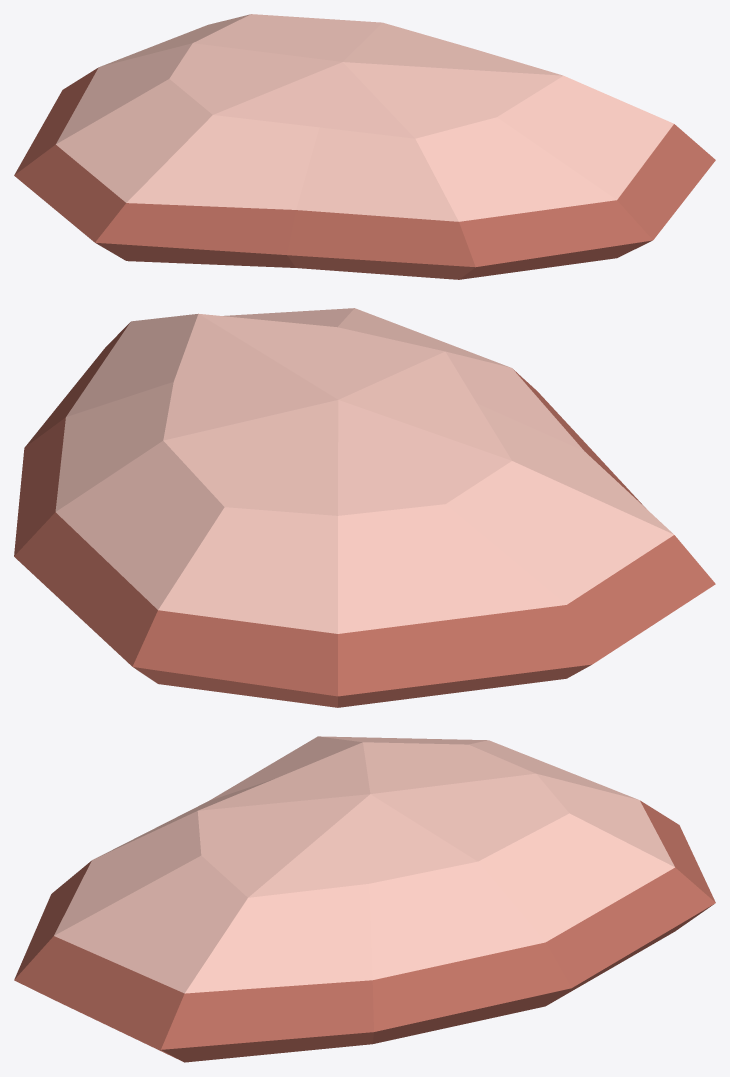
File: Feuillage 013.fbx
The picture shows the model from 3 angles, top to bottom: view 1: azimuth 30°, elevation 25°; view 2: azimuth 150°, elevation 25°; view 3: azimuth 270°, elevation 25°; orthographic projection. The views are drawn at different scales.
Parts seen in each view (by area): view 1: Feuillage 013; view 2: Feuillage 013; view 3: Feuillage 013.
Part boxes in pixels (<box>): Feuillage 013: <box>14,14,715,279</box>; Feuillage 013: <box>14,308,715,707</box>; Feuillage 013: <box>14,736,715,1062</box>.
Bounding box in the file's own units: 64.8 × 16.48 × 64.93.
